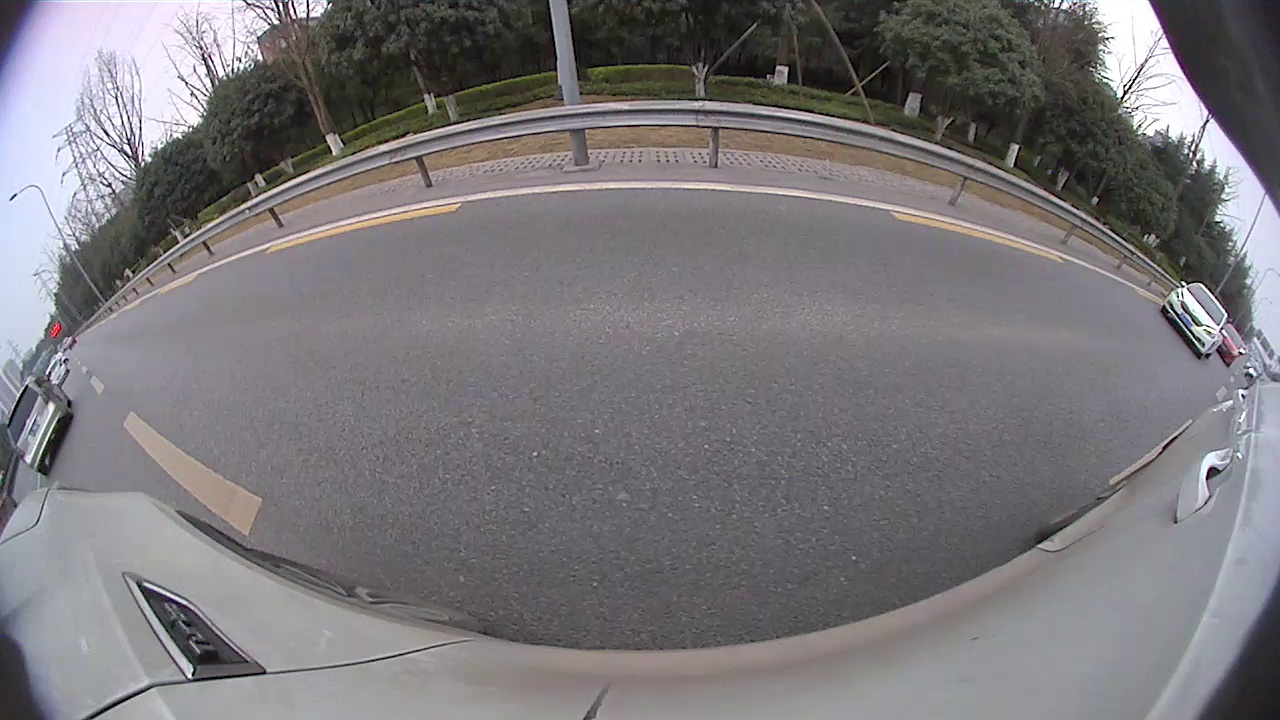car: (1, 193, 373, 491), (320, 176, 459, 239), (505, 139, 615, 217), (648, 150, 684, 191), (622, 159, 652, 185)
front: (299, 246, 357, 318), (443, 197, 457, 218)
rear: (571, 177, 591, 212), (381, 211, 404, 238)
